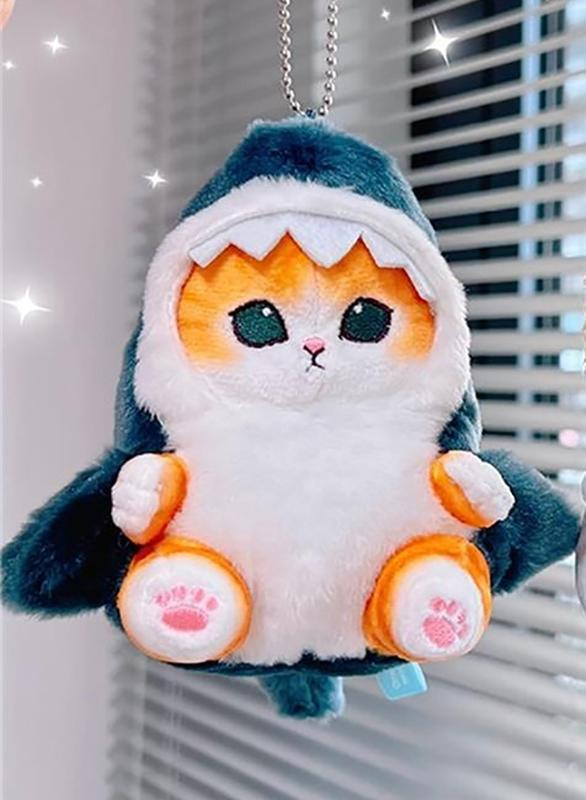cat_shark: (0, 114, 585, 725)
